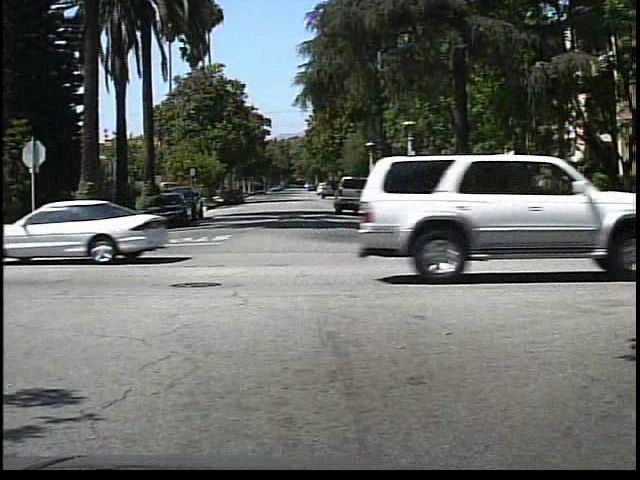person: (551, 167, 585, 236)
